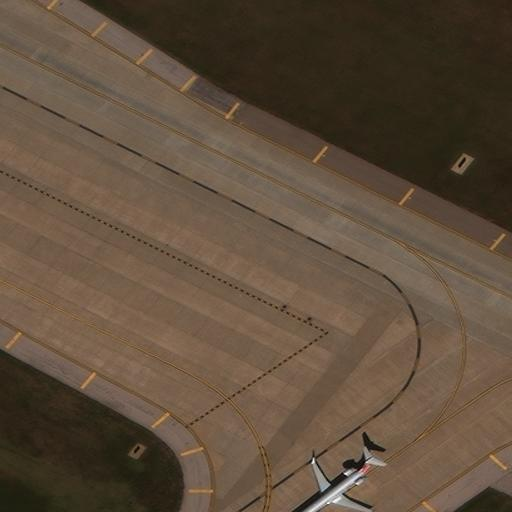Medium Civil Transport: (290, 455, 372, 512)
